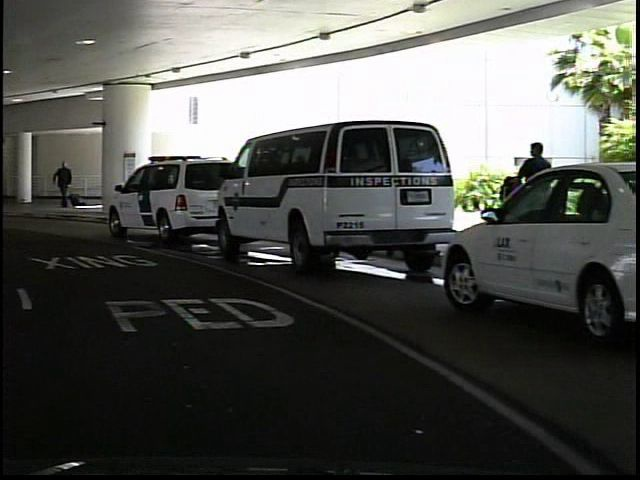person: (509, 136, 553, 261), (48, 156, 75, 215)
